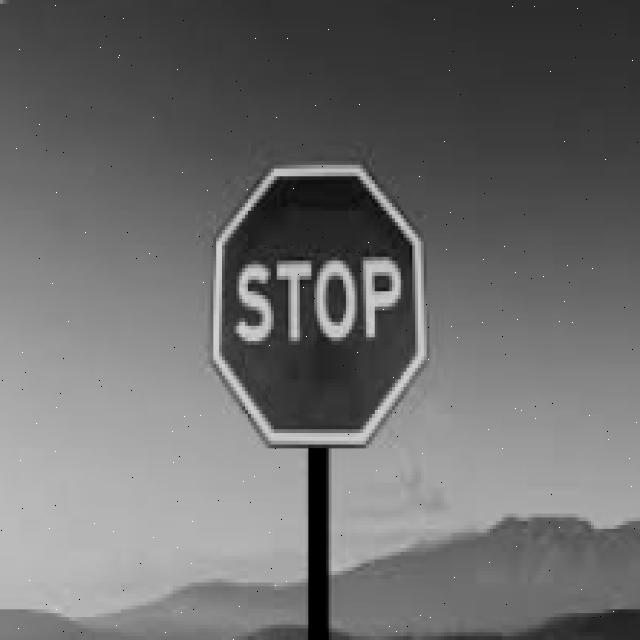Stop-signs: (211, 162, 427, 447)
